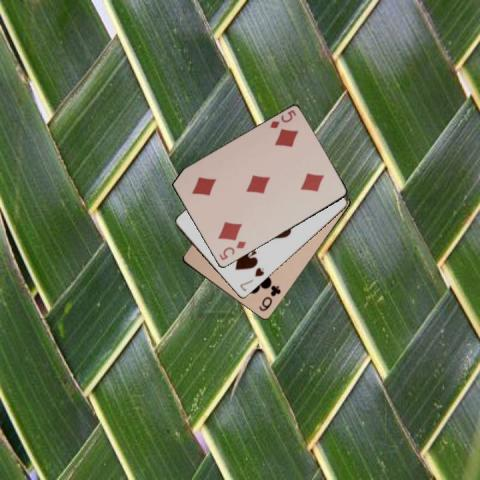5d: (216, 238, 247, 262), (267, 107, 297, 130)
6c: (256, 282, 283, 312)
7s: (237, 264, 265, 292)
